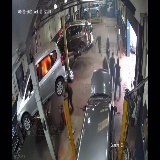fire: (34, 53, 58, 75)
